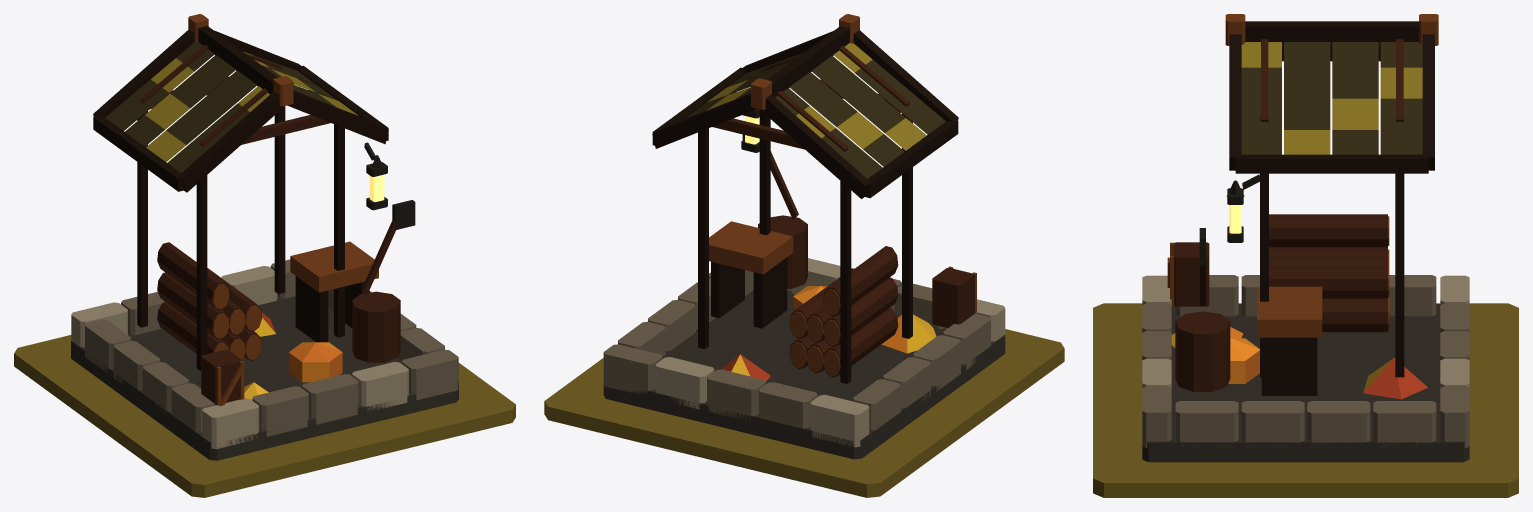
Rendered from timber_yard_t4.glb.
The picture shows the model from 3 angles, left to right: view 1: azimuth 30°, elevation 25°; view 2: azimuth 150°, elevation 25°; view 3: azimuth 270°, elevation 25°; orthographic projection. The views are drawn at different scales.
Parts seen in each view (by area): view 1: MMR | timber_yard | T04 Architecture.001, MMR | timber_yard | Tier 04 Ground.001, MMR | timber_yard | T04 Autumn Dressing.001; view 2: MMR | timber_yard | T04 Architecture.001, MMR | timber_yard | Tier 04 Ground.001, MMR | timber_yard | T04 Autumn Dressing.001; view 3: MMR | timber_yard | T04 Architecture.001, MMR | timber_yard | Tier 04 Ground.001, MMR | timber_yard | T04 Autumn Dressing.001.
Part boxes in pixels (x1,y1,x2,y2): MMR | timber_yard | T04 Architecture.001: (71,14,458,460); MMR | timber_yard | Tier 04 Ground.001: (14,335,515,497); MMR | timber_yard | T04 Autumn Dressing.001: (244,312,342,400); MMR | timber_yard | T04 Architecture.001: (603,14,1005,459); MMR | timber_yard | Tier 04 Ground.001: (544,329,1064,497); MMR | timber_yard | T04 Autumn Dressing.001: (721,286,936,381); MMR | timber_yard | T04 Architecture.001: (1142,14,1469,462); MMR | timber_yard | Tier 04 Ground.001: (1093,303,1518,497); MMR | timber_yard | T04 Autumn Dressing.001: (1171,327,1427,399).
Bounding box in the file's own units: 1.3 × 1.29 × 1.3.
2 materials, 1 textured.
